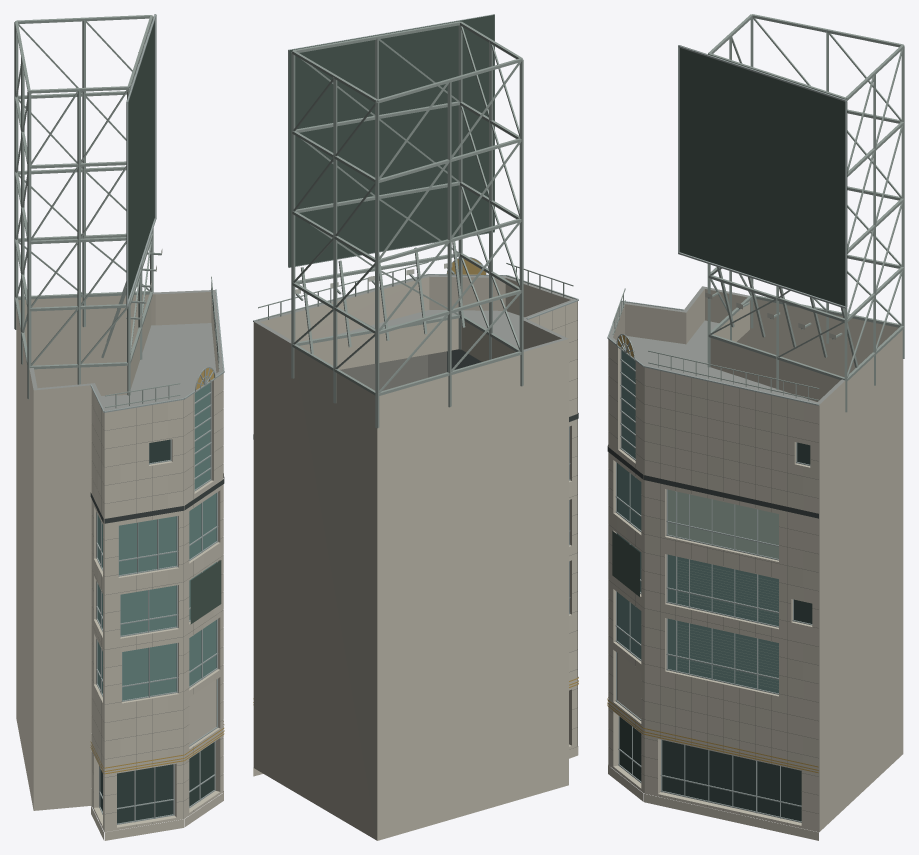
The model's file is center244.glb.
The picture shows the model from 3 angles, left to right: view 1: azimuth 30°, elevation 25°; view 2: azimuth 150°, elevation 25°; view 3: azimuth 270°, elevation 25°; orthographic projection. The views are drawn at different scales.
Parts seen in each view (by area): view 1: c244_stone_dark, c244_stone, c244_steel, c244_glass, c244_stone_light, c244_frame, c244_screen_back, c244_roof, c244_glass_dark, c244_joint, c244_reveal, c244_gold; view 2: c244_stone_dark, c244_screen_back, c244_steel, c244_joint, c244_roof, c244_stone, c244_frame, c244_stone_light; view 3: c244_stone_dark, c244_screen_back, c244_stone, c244_steel, c244_glass, c244_stone_light, c244_glass_dark, c244_frame, c244_blind, c244_joint, c244_roof, c244_reveal (+1 smaller).
Part boxes in pixels (x1=…): c244_stone_dark: x1=16, y1=292, x2=223, y2=840; c244_stone: x1=91, y1=373, x2=223, y2=832; c244_steel: x1=14, y1=15, x2=219, y2=408; c244_glass: x1=97, y1=383, x2=216, y2=700; c244_stone_light: x1=91, y1=394, x2=223, y2=826; c244_frame: x1=90, y1=14, x2=224, y2=824; c244_screen_back: x1=126, y1=20, x2=221, y2=624; c244_roof: x1=29, y1=290, x2=222, y2=410; c244_glass_dark: x1=100, y1=439, x2=214, y2=823; c244_joint: x1=92, y1=391, x2=222, y2=831; c244_reveal: x1=90, y1=473, x2=224, y2=523; c244_gold: x1=90, y1=721, x2=224, y2=774; c244_stone_dark: x1=253, y1=276, x2=578, y2=840; c244_screen_back: x1=289, y1=14, x2=494, y2=267; c244_steel: x1=258, y1=21, x2=573, y2=428; c244_joint: x1=340, y1=301, x2=577, y2=746; c244_roof: x1=254, y1=275, x2=576, y2=351; c244_stone: x1=551, y1=301, x2=577, y2=728; c244_frame: x1=253, y1=14, x2=578, y2=614; c244_stone_light: x1=540, y1=311, x2=577, y2=671; c244_stone_dark: x1=608, y1=289, x2=903, y2=840; c244_screen_back: x1=612, y1=45, x2=847, y2=596; c244_stone: x1=608, y1=347, x2=818, y2=832; c244_steel: x1=612, y1=14, x2=904, y2=412; c244_glass: x1=617, y1=351, x2=778, y2=693; c244_stone_light: x1=608, y1=339, x2=818, y2=821; c244_glass_dark: x1=619, y1=442, x2=812, y2=821; c244_frame: x1=607, y1=45, x2=847, y2=822; c244_blind: x1=668, y1=489, x2=778, y2=689; c244_joint: x1=609, y1=358, x2=819, y2=831; c244_roof: x1=609, y1=286, x2=844, y2=404; c244_reveal: x1=607, y1=350, x2=818, y2=699.
Bounding box in the file's own units: 11.98 × 33.65 × 12.63.
